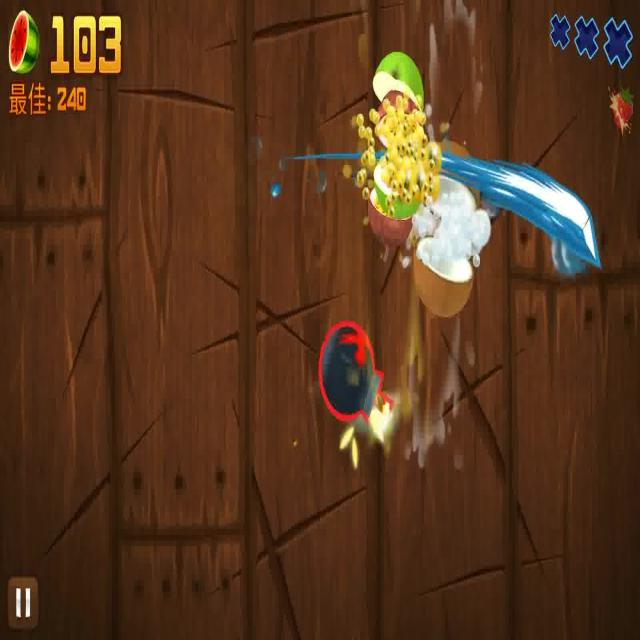bomb: (316, 318, 402, 454)
fruit: (411, 234, 478, 316), (366, 160, 428, 241), (372, 45, 426, 114)
